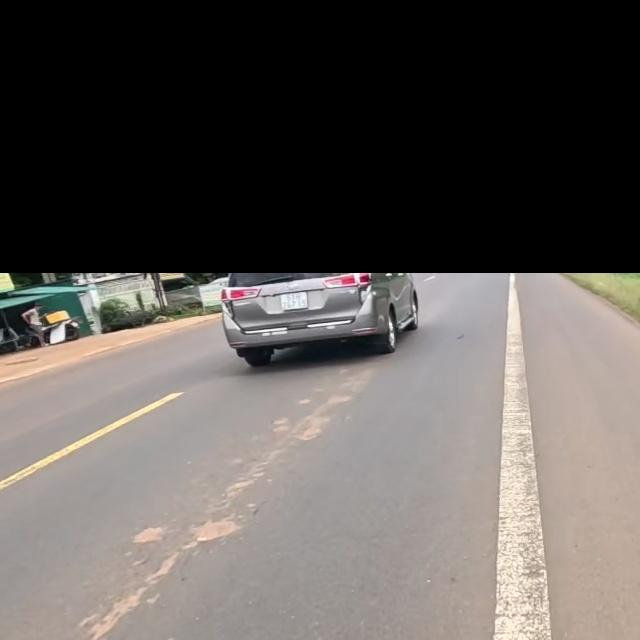license-plate: (279, 291, 308, 310)
